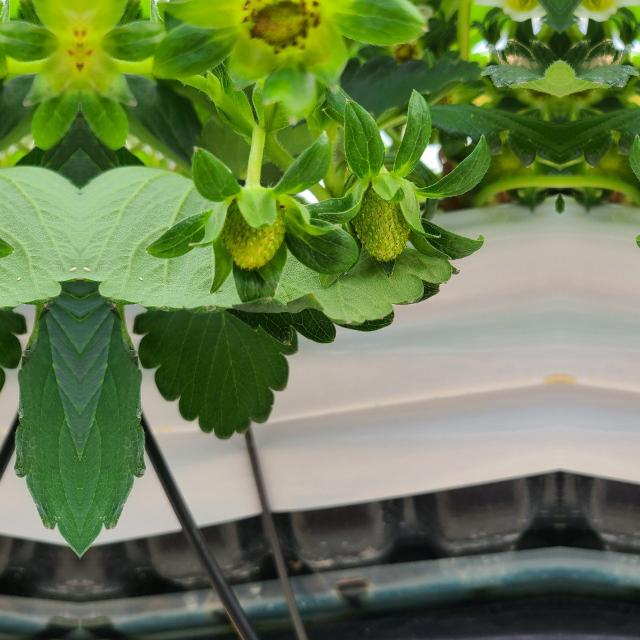Health_25: (218, 190, 294, 278), (351, 182, 411, 260)
